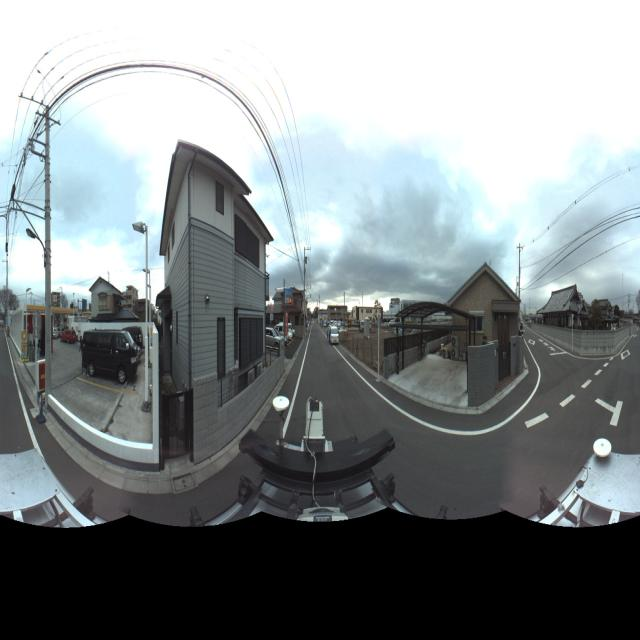b_1: (162, 136, 277, 401), (448, 252, 521, 360), (539, 270, 593, 346), (86, 260, 125, 328)
